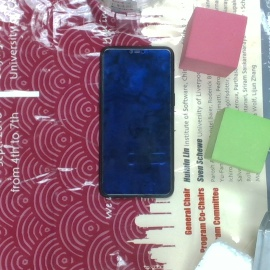phone: (99, 45, 177, 198)
